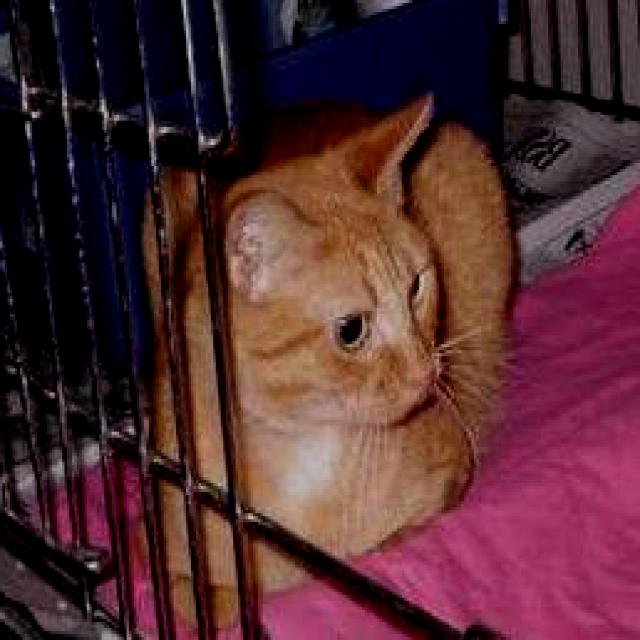Kucing: (68, 61, 547, 590)
